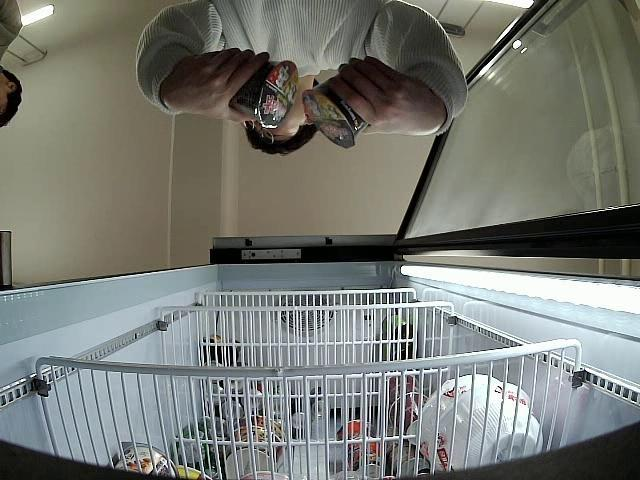08_buldak_S: (230, 60, 299, 129), (302, 77, 368, 149)
